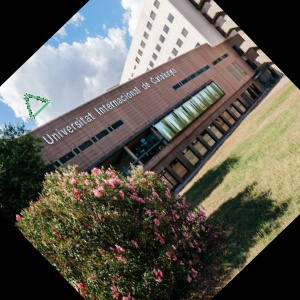triangle: (22, 89, 52, 120)
